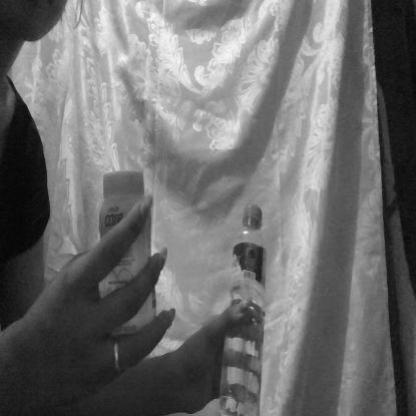Plastic Bottle: (201, 145, 304, 416)
